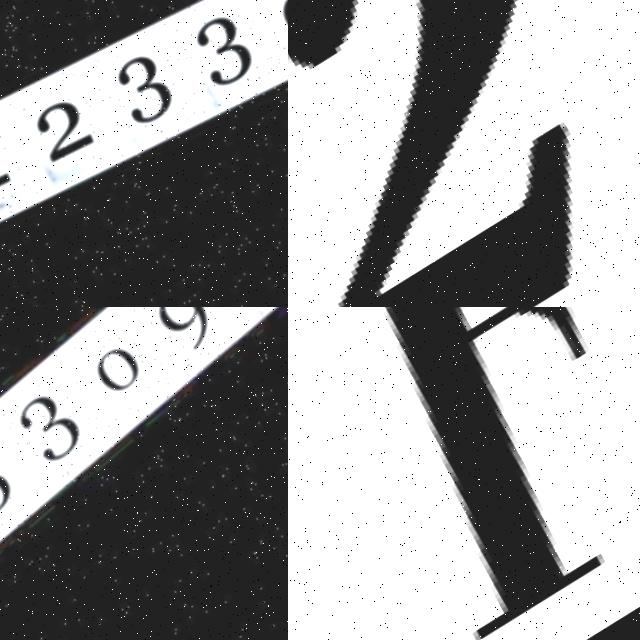0: (66, 320, 163, 428), (249, 0, 288, 71)
2: (288, 0, 640, 307), (2, 64, 122, 196), (0, 100, 39, 228)
3: (87, 30, 198, 152), (166, 0, 279, 115), (0, 369, 102, 491), (0, 428, 31, 545)
9: (132, 307, 235, 381)
F: (288, 307, 640, 640)
